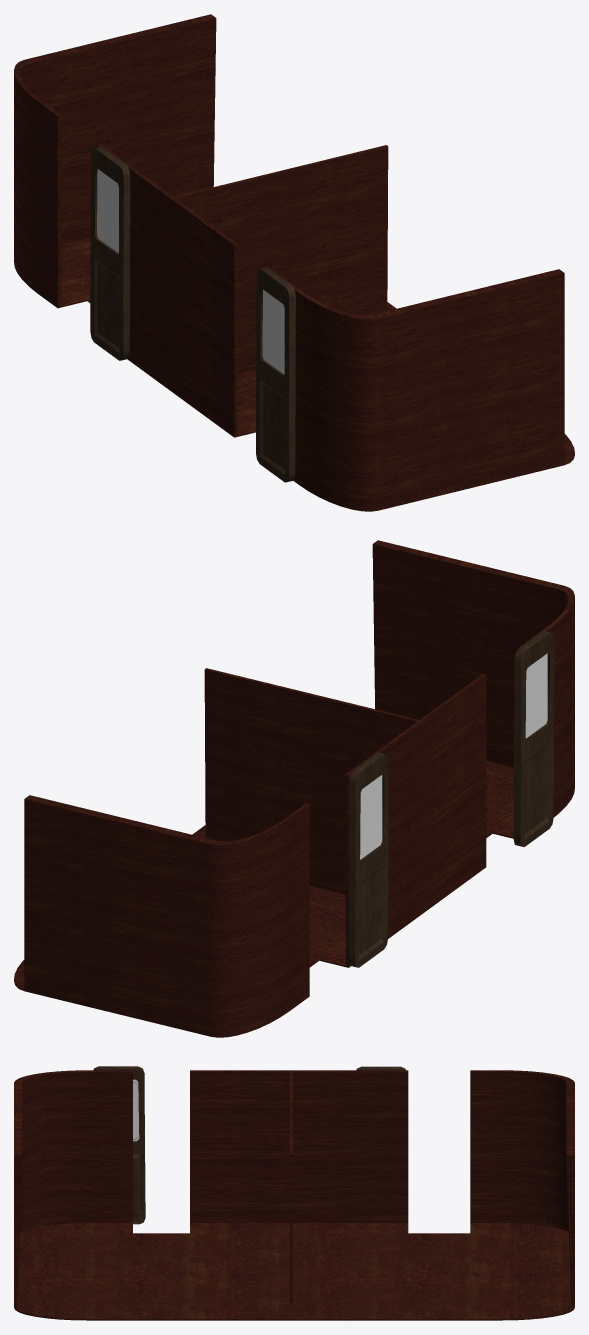
Rendered from cabine.fbx.
The picture shows the model from 3 angles, top to bottom: view 1: azimuth 30°, elevation 25°; view 2: azimuth 150°, elevation 25°; view 3: azimuth 270°, elevation 25°; orthographic projection. The views are drawn at different scales.
Parts seen in each view (by area): view 1: Plane, PortaCabina1, PortaCabina2; view 2: Plane, PortaCabina1, PortaCabina2; view 3: Plane, PortaCabina1.
Boxes of the visible parts, x1,y1,x2,y2 form: Plane: [14, 14, 574, 511]; PortaCabina1: [256, 267, 295, 482]; PortaCabina2: [90, 146, 130, 360]; Plane: [14, 540, 574, 1037]; PortaCabina1: [513, 631, 554, 846]; PortaCabina2: [348, 752, 388, 967]; Plane: [14, 1070, 574, 1320]; PortaCabina1: [93, 1066, 145, 1224].
Bounding box in the file's own units: 343 × 248 × 812.
